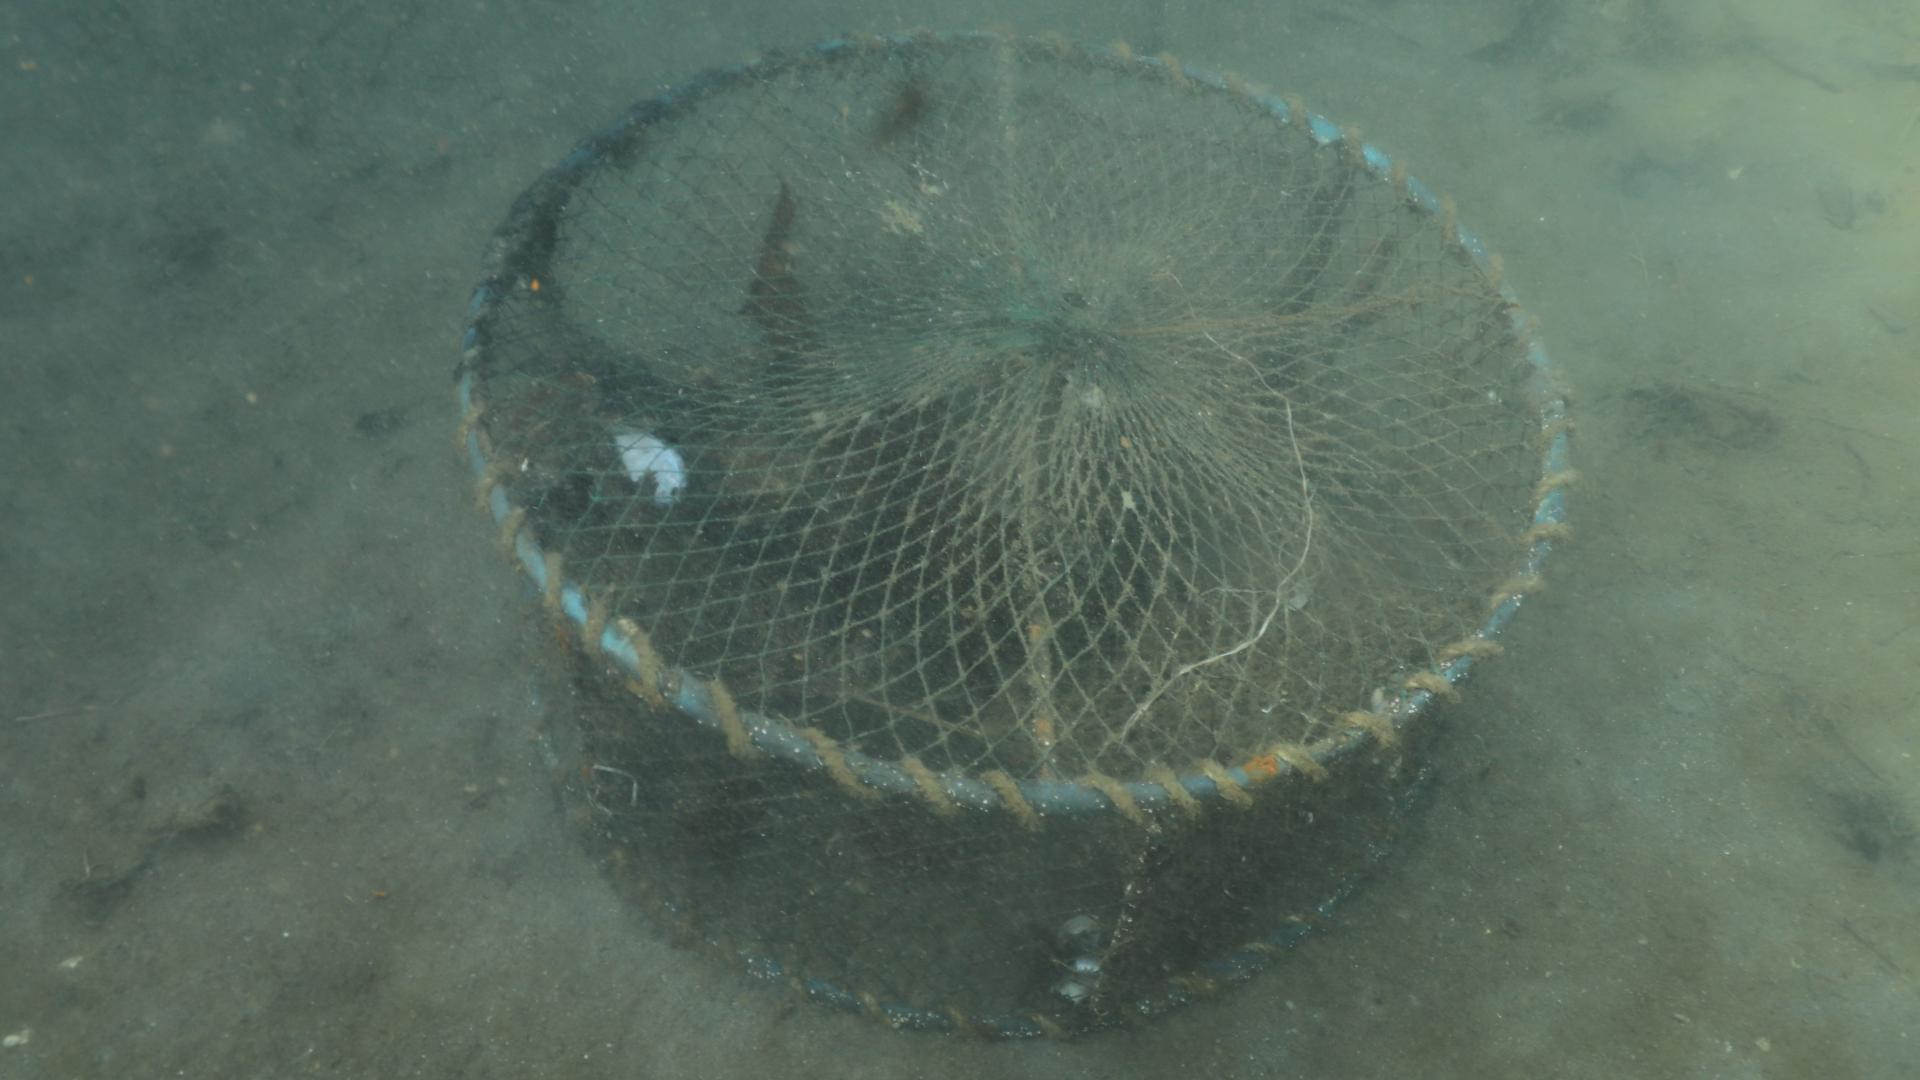circular fish trap: (448, 25, 1581, 1036)
